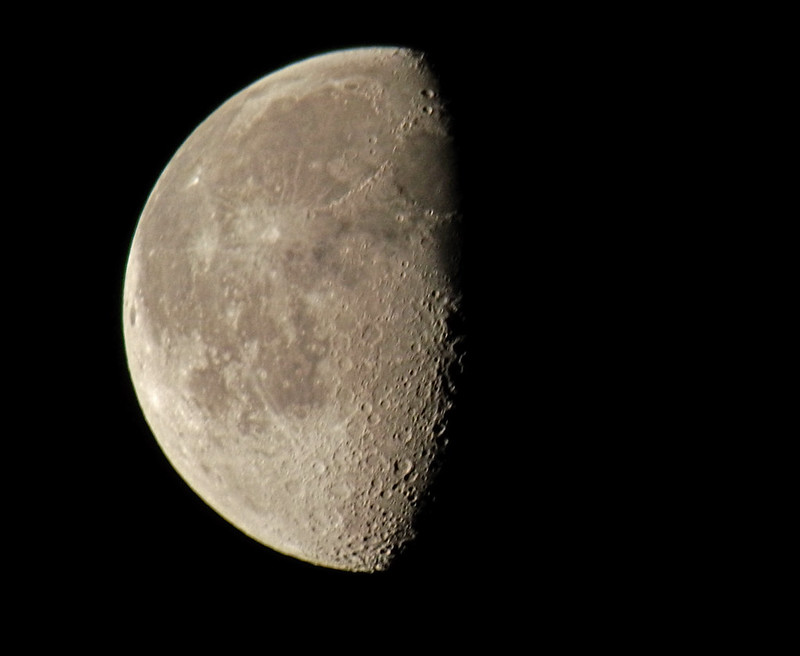crater: (223, 187, 302, 266), (169, 220, 240, 281), (300, 443, 337, 480), (327, 301, 363, 339), (408, 76, 449, 104), (273, 471, 309, 502), (340, 70, 377, 98), (184, 166, 211, 197), (330, 351, 356, 378), (355, 126, 386, 147), (276, 374, 296, 394), (363, 145, 385, 162), (355, 395, 374, 414), (405, 337, 423, 357)
